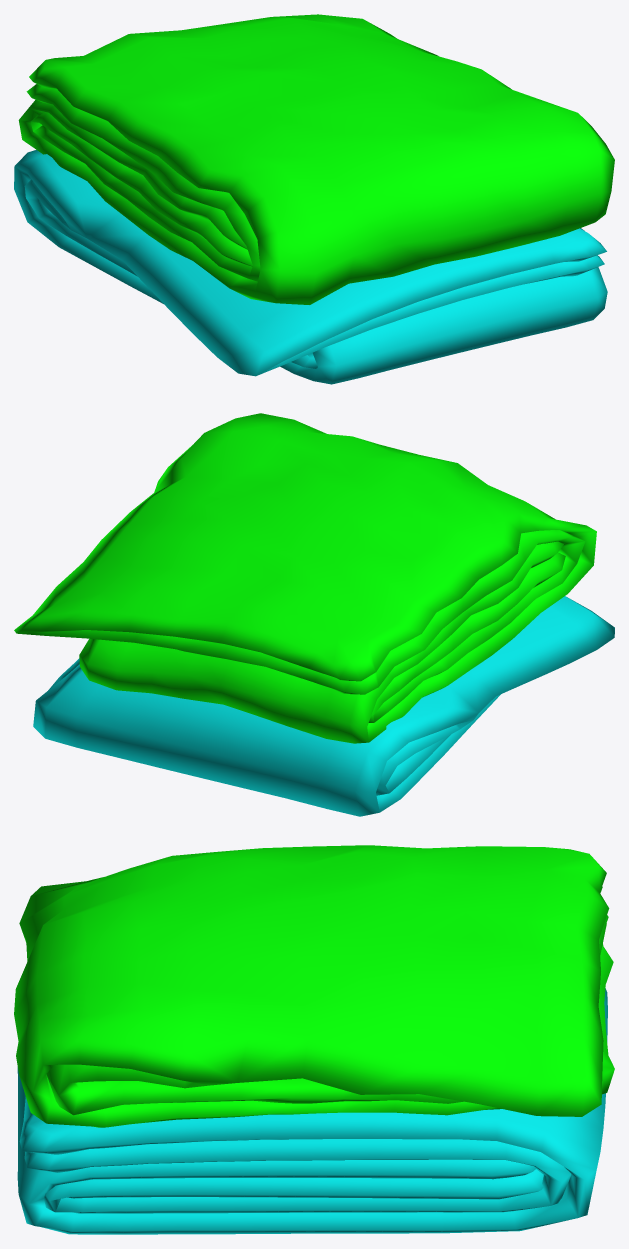
File: M_Pants01.fbx
3 views of the same model, one above another, from view 1: azimuth 30°, elevation 25°; view 2: azimuth 150°, elevation 25°; view 3: azimuth 270°, elevation 25° (orthographic). The views are drawn at different scales.
Visible parts, largest first — view 1: Pants02, Pants01; view 2: Pants02, Pants01; view 3: Pants02, Pants01.
Boxes of the visible parts, left/top/right/bottom form: Pants02: left=18, top=14, right=614, bottom=304; Pants01: left=14, top=150, right=607, bottom=384; Pants02: left=14, top=413, right=596, bottom=743; Pants01: left=33, top=596, right=614, bottom=816; Pants02: left=14, top=845, right=614, bottom=1127; Pants01: left=17, top=988, right=607, bottom=1234.
Bounding box in the file's own units: 32.2 × 15.4 × 34.97.
